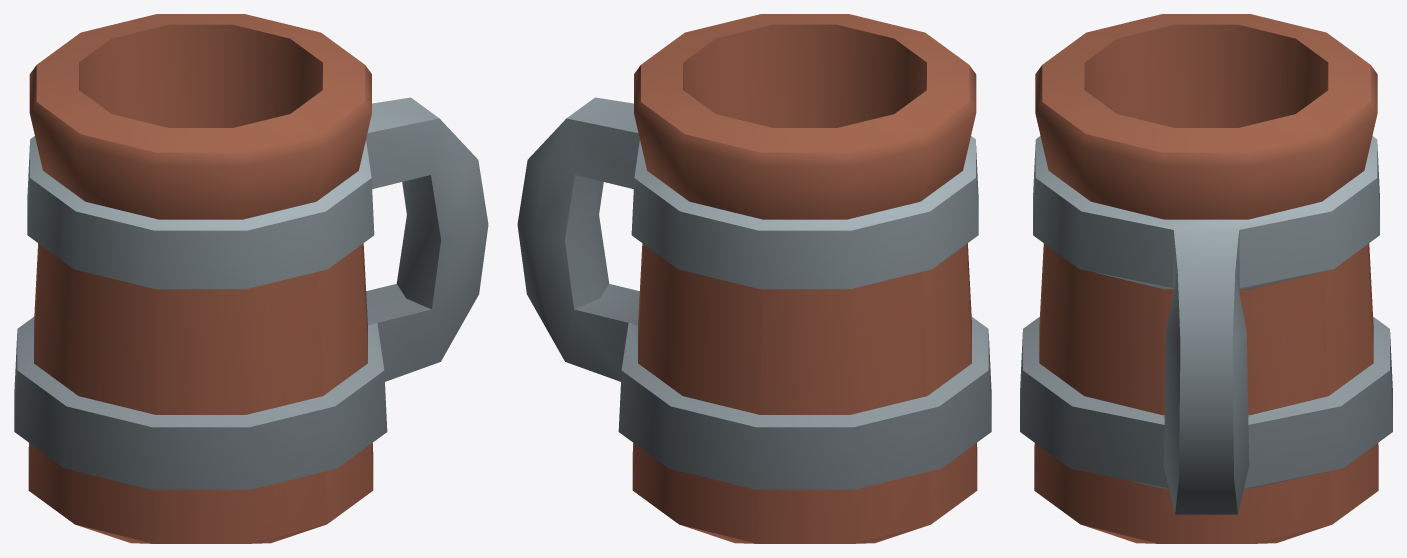
Rendered from Mug_.fbx.
3 renders of one model, left to right at view 1: azimuth 30°, elevation 25°; view 2: azimuth 150°, elevation 25°; view 3: azimuth 270°, elevation 25°, orthographic.
Visible parts, largest first — view 1: Mug; view 2: Mug; view 3: Mug.
Part boxes in pixels (x1,y1,x2,y2): Mug: [14, 14, 488, 543]; Mug: [517, 14, 991, 543]; Mug: [1020, 14, 1392, 543].
Size of the model in its own units: 5342 by 4867 by 3960.
